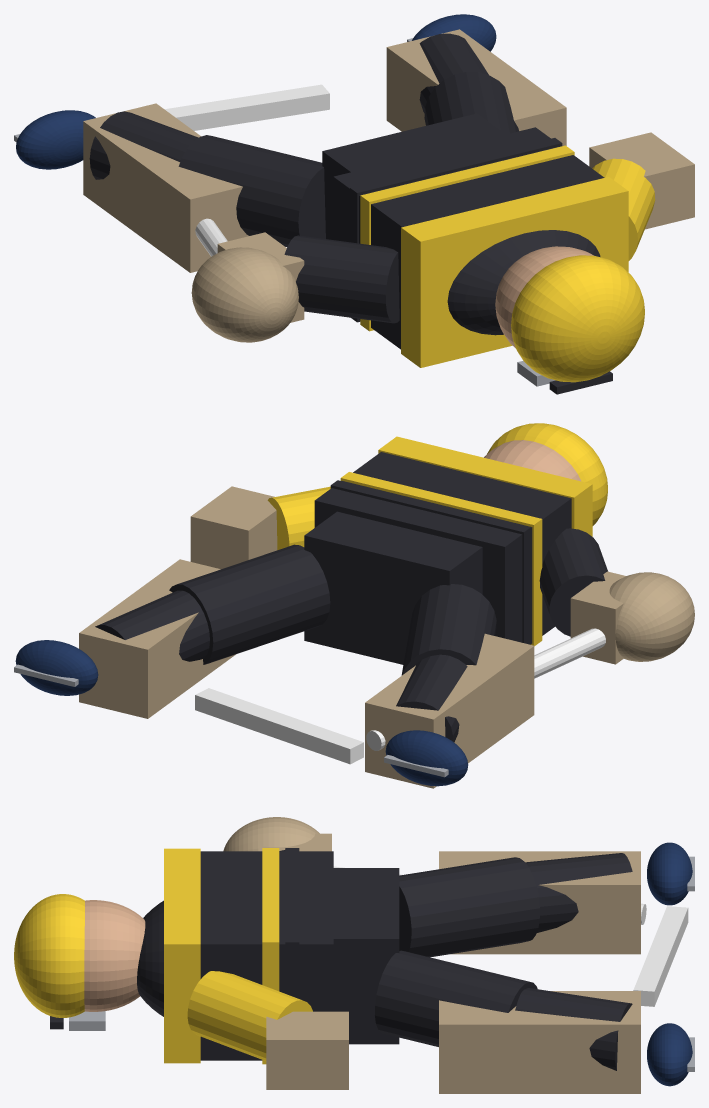
File: bruins_goalie_3d.glb
3 views of the same model, one above another, from view 1: azimuth 30°, elevation 25°; view 2: azimuth 150°, elevation 25°; view 3: azimuth 270°, elevation 25° (orthographic). The views are drawn at different scales.
Visible parts, largest first — view 1: world; view 2: world; view 3: world.
Part boxes in pixels (bbox=[...]): world: bbox=[14, 14, 694, 394]; world: bbox=[14, 423, 694, 788]; world: bbox=[14, 817, 694, 1093].
Size of the model in its own units: 1.79 by 0.462 by 2.23.
